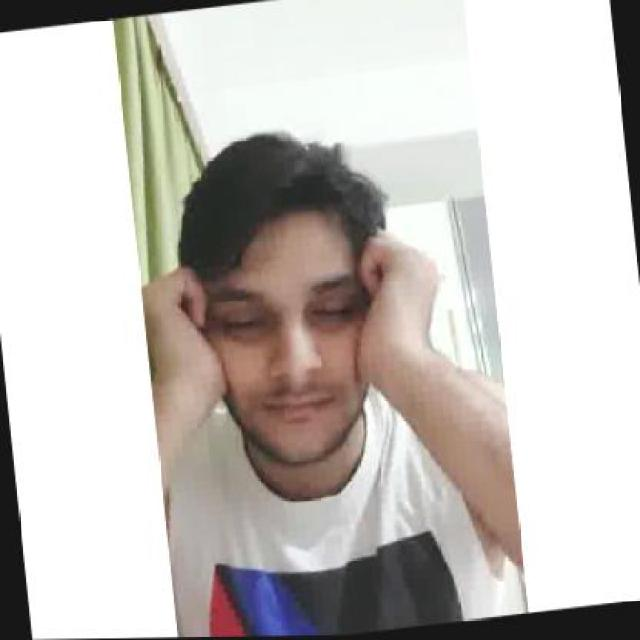inattentif: (175, 121, 400, 479)
